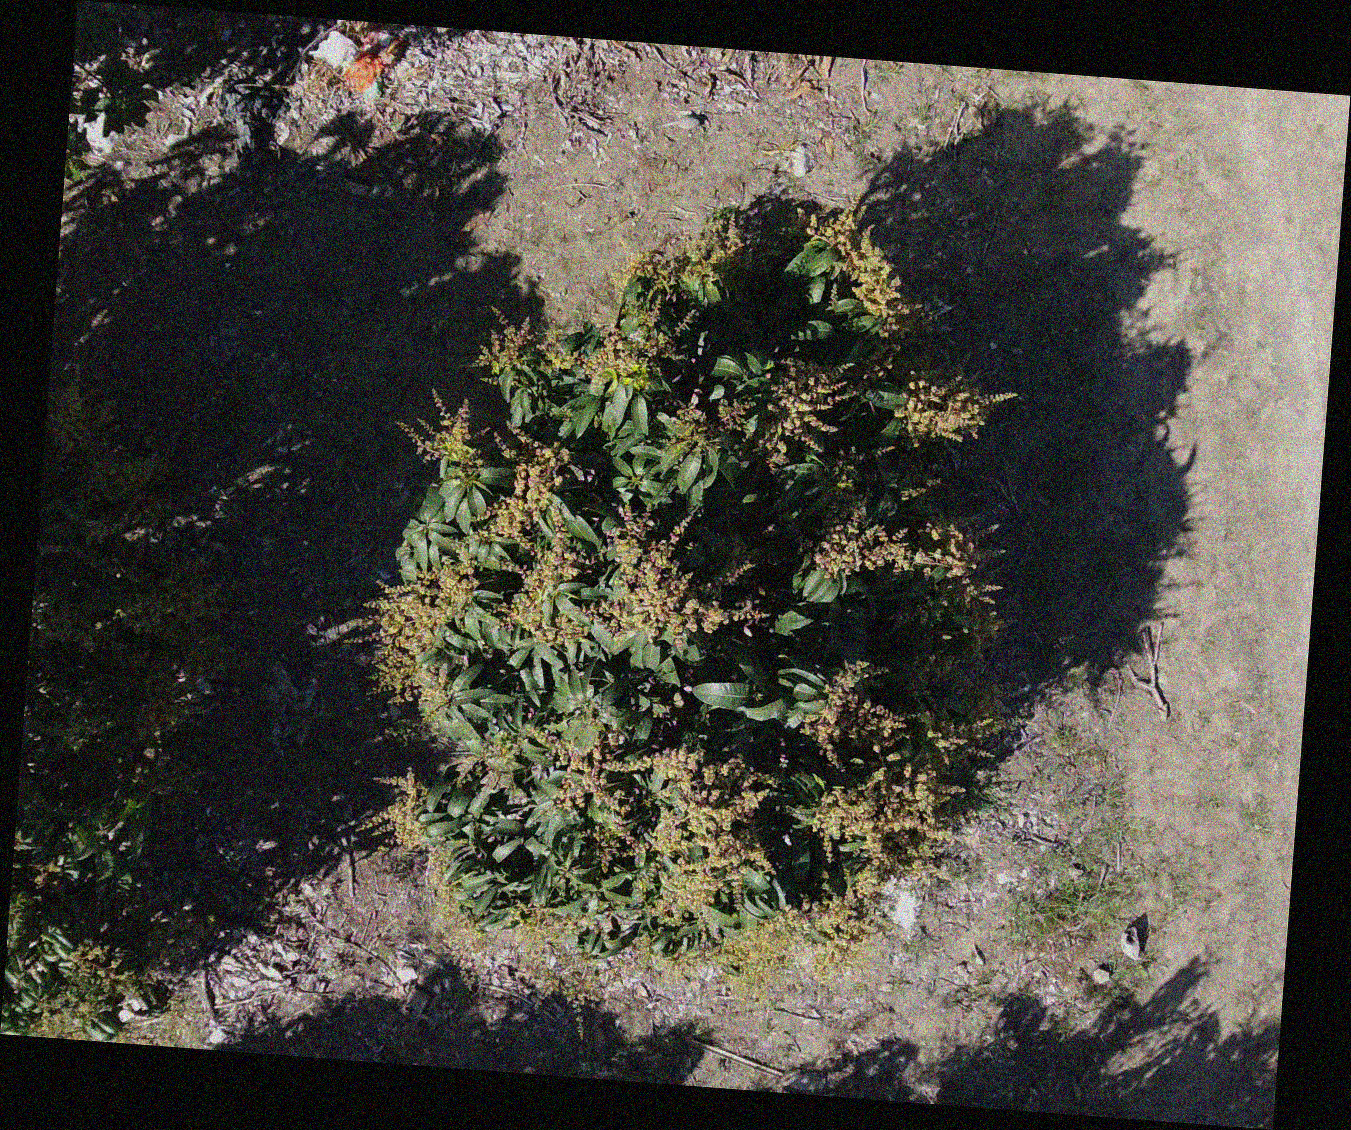flowers: (517, 718, 789, 955), (480, 202, 739, 407), (81, 555, 222, 743), (592, 514, 769, 647), (715, 866, 883, 1002), (42, 384, 159, 569), (796, 508, 996, 609), (353, 554, 474, 718), (802, 202, 931, 336), (507, 916, 669, 1009), (812, 766, 955, 867), (624, 208, 743, 304), (803, 660, 907, 766), (33, 940, 138, 1040), (482, 431, 575, 544), (760, 361, 844, 472), (895, 369, 1014, 448), (422, 855, 489, 966), (398, 392, 484, 479), (360, 769, 442, 858), (936, 685, 1007, 764), (30, 595, 103, 654), (476, 307, 531, 375), (667, 391, 722, 454), (717, 399, 755, 435), (13, 827, 25, 860), (876, 445, 894, 458)
